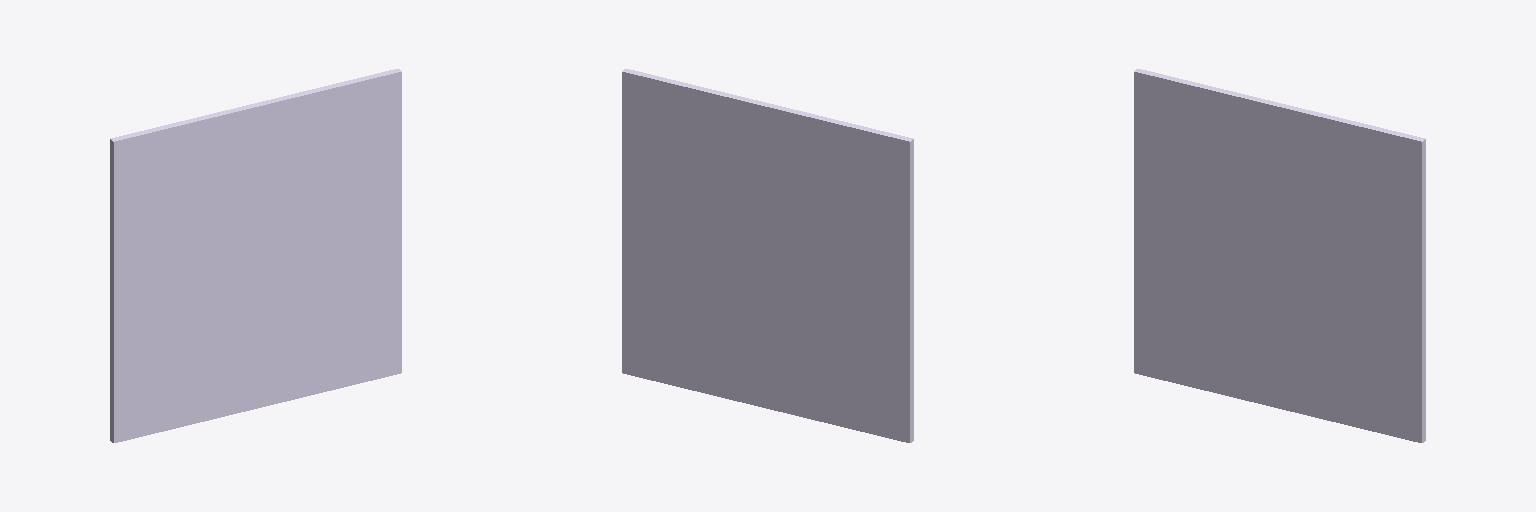
3 views of the same model, side by side, from view 1: azimuth 30°, elevation 25°; view 2: azimuth 150°, elevation 25°; view 3: azimuth 330°, elevation 25° (orthographic).
Parts seen in each view (by area): view 1: parede; view 2: parede; view 3: parede.
Part boxes in pixels (x1,y1,x2,y2): parede: (110, 69, 401, 442); parede: (622, 69, 913, 442); parede: (1134, 69, 1425, 442).
Bounding box in the file's own units: 40 × 40 × 1.
Materials: 1 (1 with a texture image).